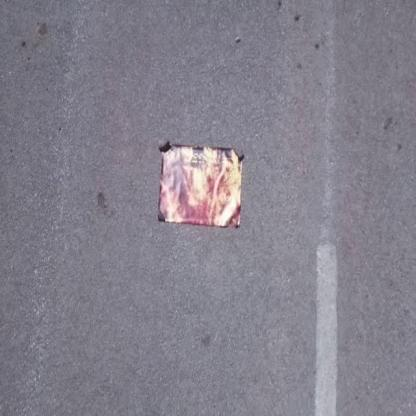fire-poster: (156, 140, 244, 231)
